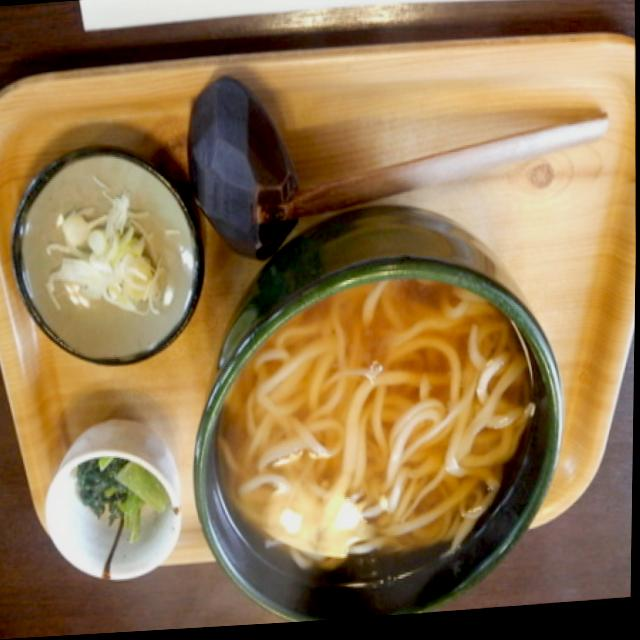面条主食: (182, 185, 578, 631)
